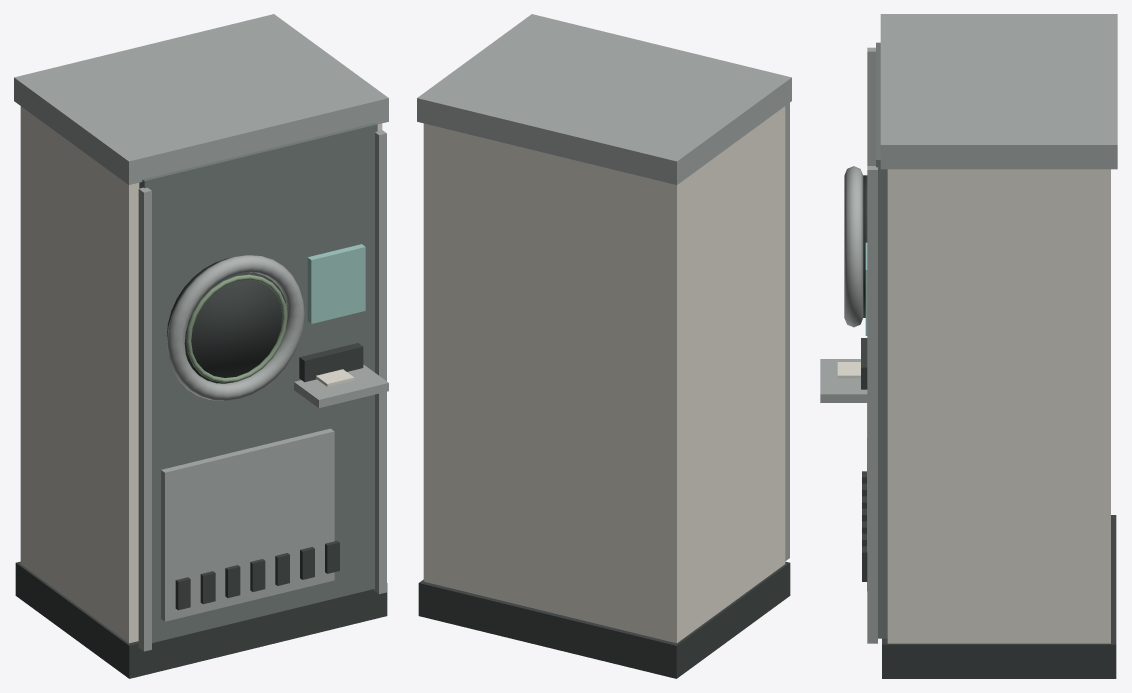
Rendered from pfand-machine.glb.
The picture shows the model from 3 angles, left to right: view 1: azimuth 30°, elevation 25°; view 2: azimuth 150°, elevation 25°; view 3: azimuth 270°, elevation 25°; orthographic projection. The views are drawn at different scales.
Parts seen in each view (by area): view 1: pfand-machine; view 2: pfand-machine; view 3: pfand-machine.
Boxes of the visible parts, x1,y1,x2,y2 form: pfand-machine: (14,14,388,678); pfand-machine: (417,14,791,678); pfand-machine: (820,14,1117,678).
Size of the model in its own units: 1.15 by 2.19 by 1.11.
